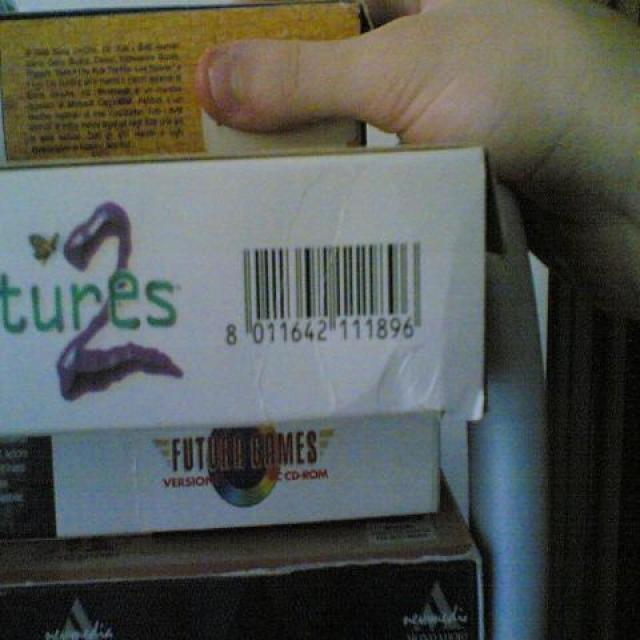Barcode: (220, 228, 435, 356)
